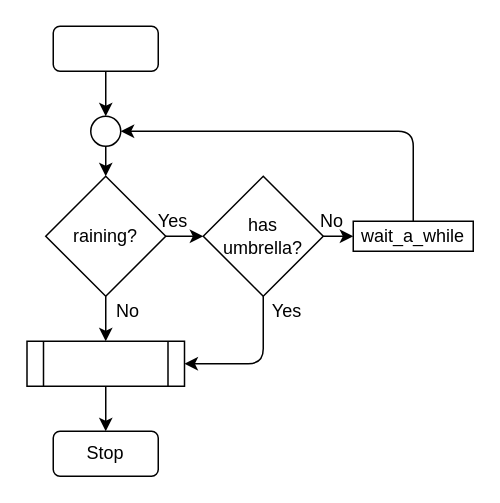
Some shapes in this 500 by 503 pixel diagram are drawn without their labels. Here are the shapes that lost their labels. From the top down, the box of each, then its label:
(52, 25, 158, 71): Start
(26, 340, 184, 386): go_outside
